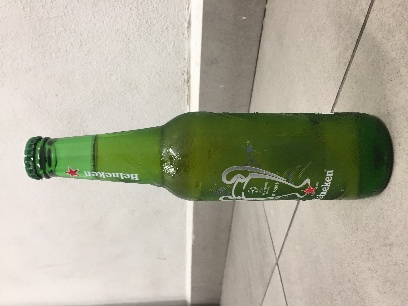HB: (151, 113, 253, 147), (45, 117, 109, 131)
